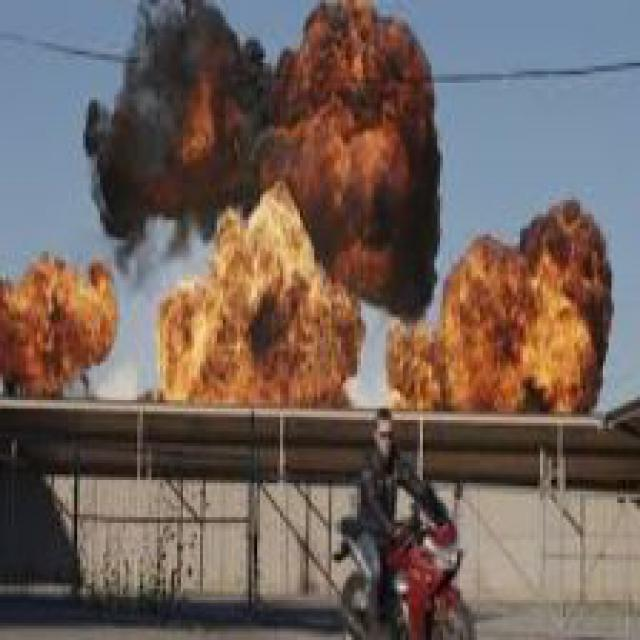fire: (148, 183, 372, 417), (392, 203, 617, 417), (3, 249, 134, 397)
